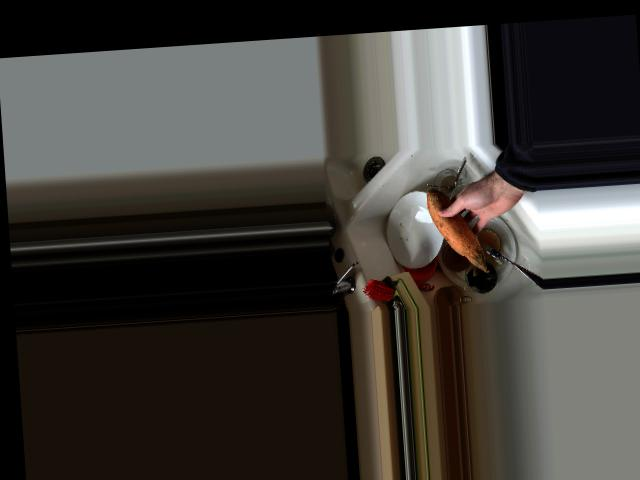sweet_potato: (423, 184, 491, 274)
